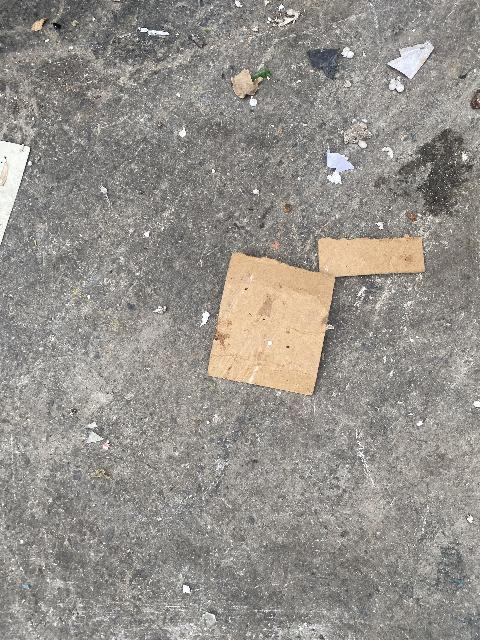Kagit: (202, 219, 437, 416), (214, 246, 330, 400), (0, 113, 48, 265), (305, 237, 427, 278), (219, 57, 290, 111), (316, 146, 378, 192), (387, 41, 434, 80)
